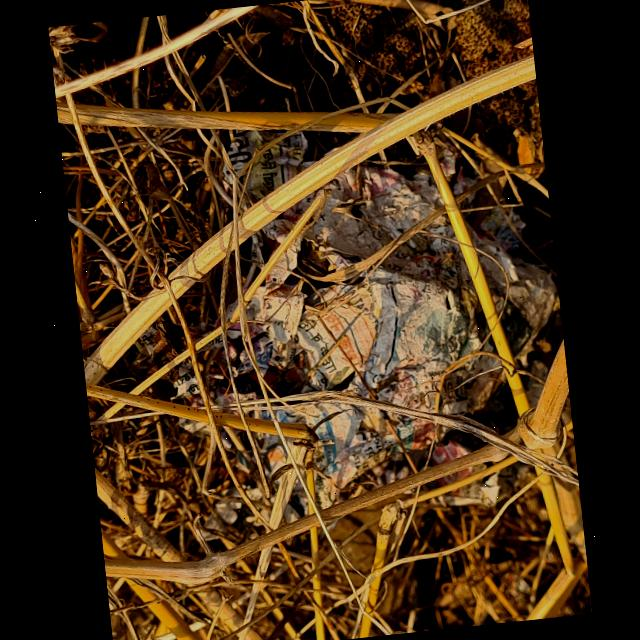trash: (48, 0, 592, 640), (142, 98, 580, 546)
